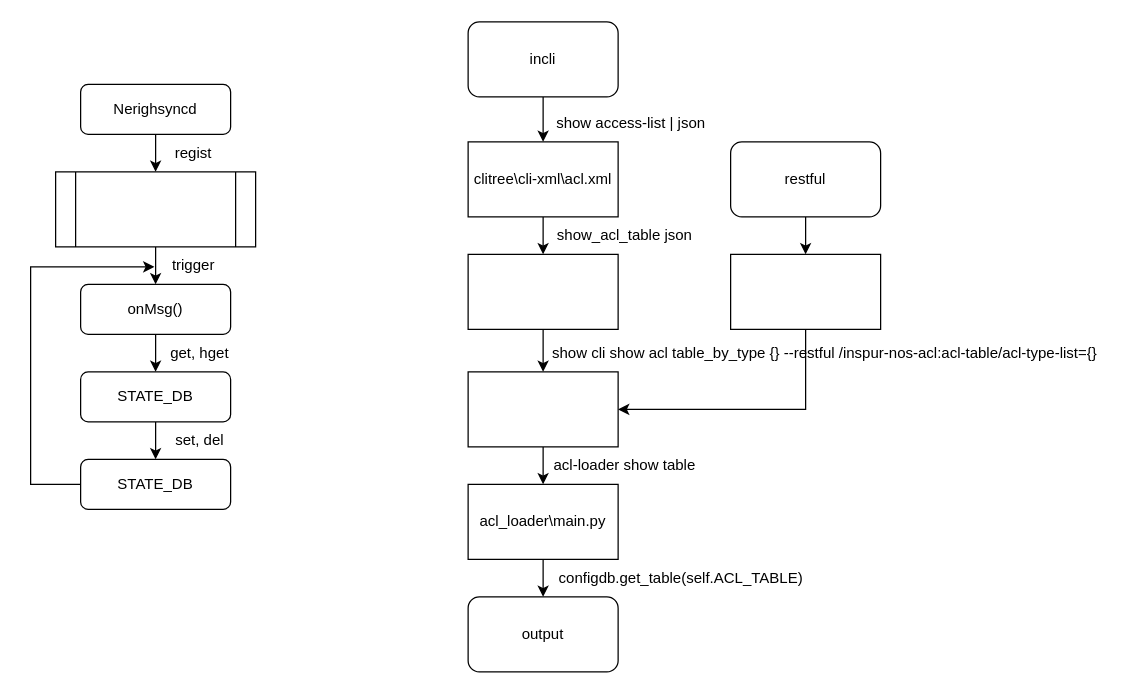
The diagram is 1134 pixels wide and 694 high, and some of its shapes have lost their labels. Each missing label, with the centre of its shape:
actioner\inspur_nos_cli_acl.py: the point at 542,291
nl_socket_modify_cb(): the point at 155,209
show\acl.py: the point at 542,409
translib\inspur_nos_acl.go: the point at 805,291
